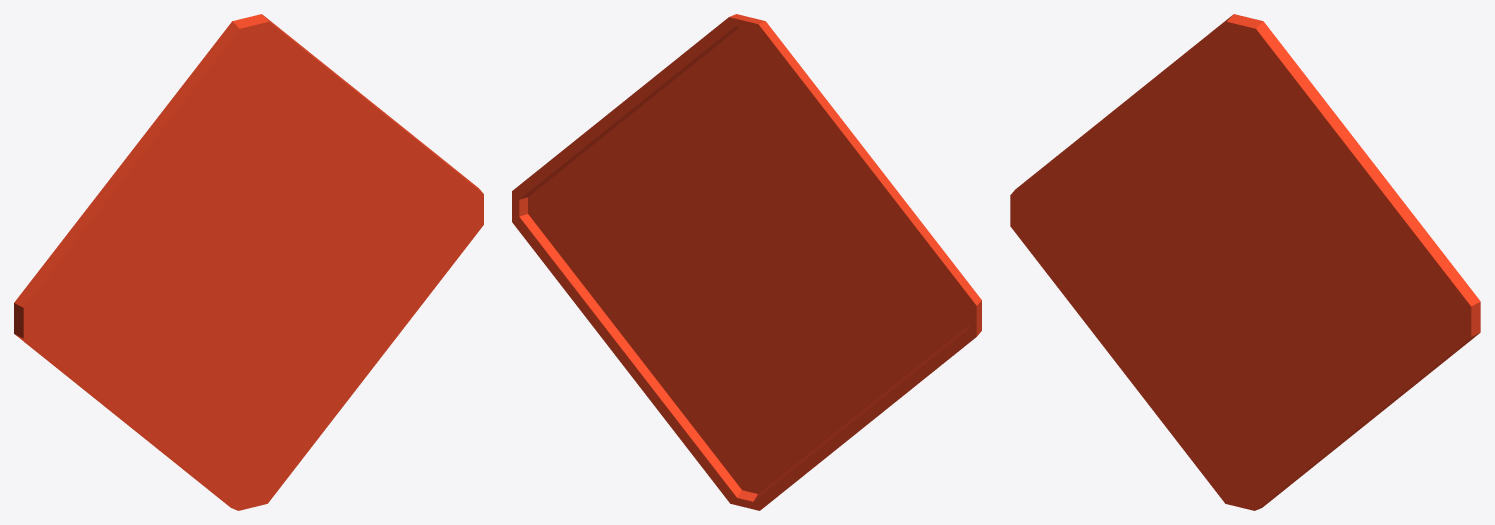
The model's file is SM_Sign_Stop_Ahead_A_City.fbx.
3 renders of one model, left to right at view 1: azimuth 30°, elevation 25°; view 2: azimuth 150°, elevation 25°; view 3: azimuth 330°, elevation 25°, orthographic.
Parts seen in each view (by area): view 1: SM_Sign_Stop_Ahead_A_City; view 2: SM_Sign_Stop_Ahead_A_City; view 3: SM_Sign_Stop_Ahead_A_City.
Part boxes in pixels (x1,y1,x2,y2): SM_Sign_Stop_Ahead_A_City: (14, 14, 483, 510); SM_Sign_Stop_Ahead_A_City: (512, 14, 981, 510); SM_Sign_Stop_Ahead_A_City: (1010, 14, 1480, 510).
Size of the model in its own units: 0.7813 by 0.7813 by 0.0215.
